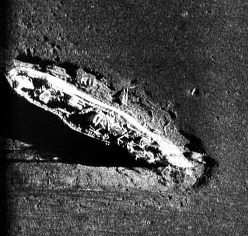ship: (5, 56, 207, 177)
